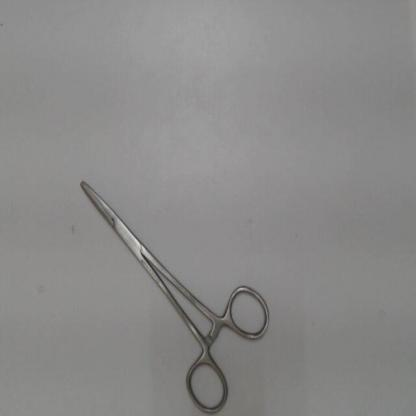Mayo Needle Holder: (70, 161, 278, 415)
